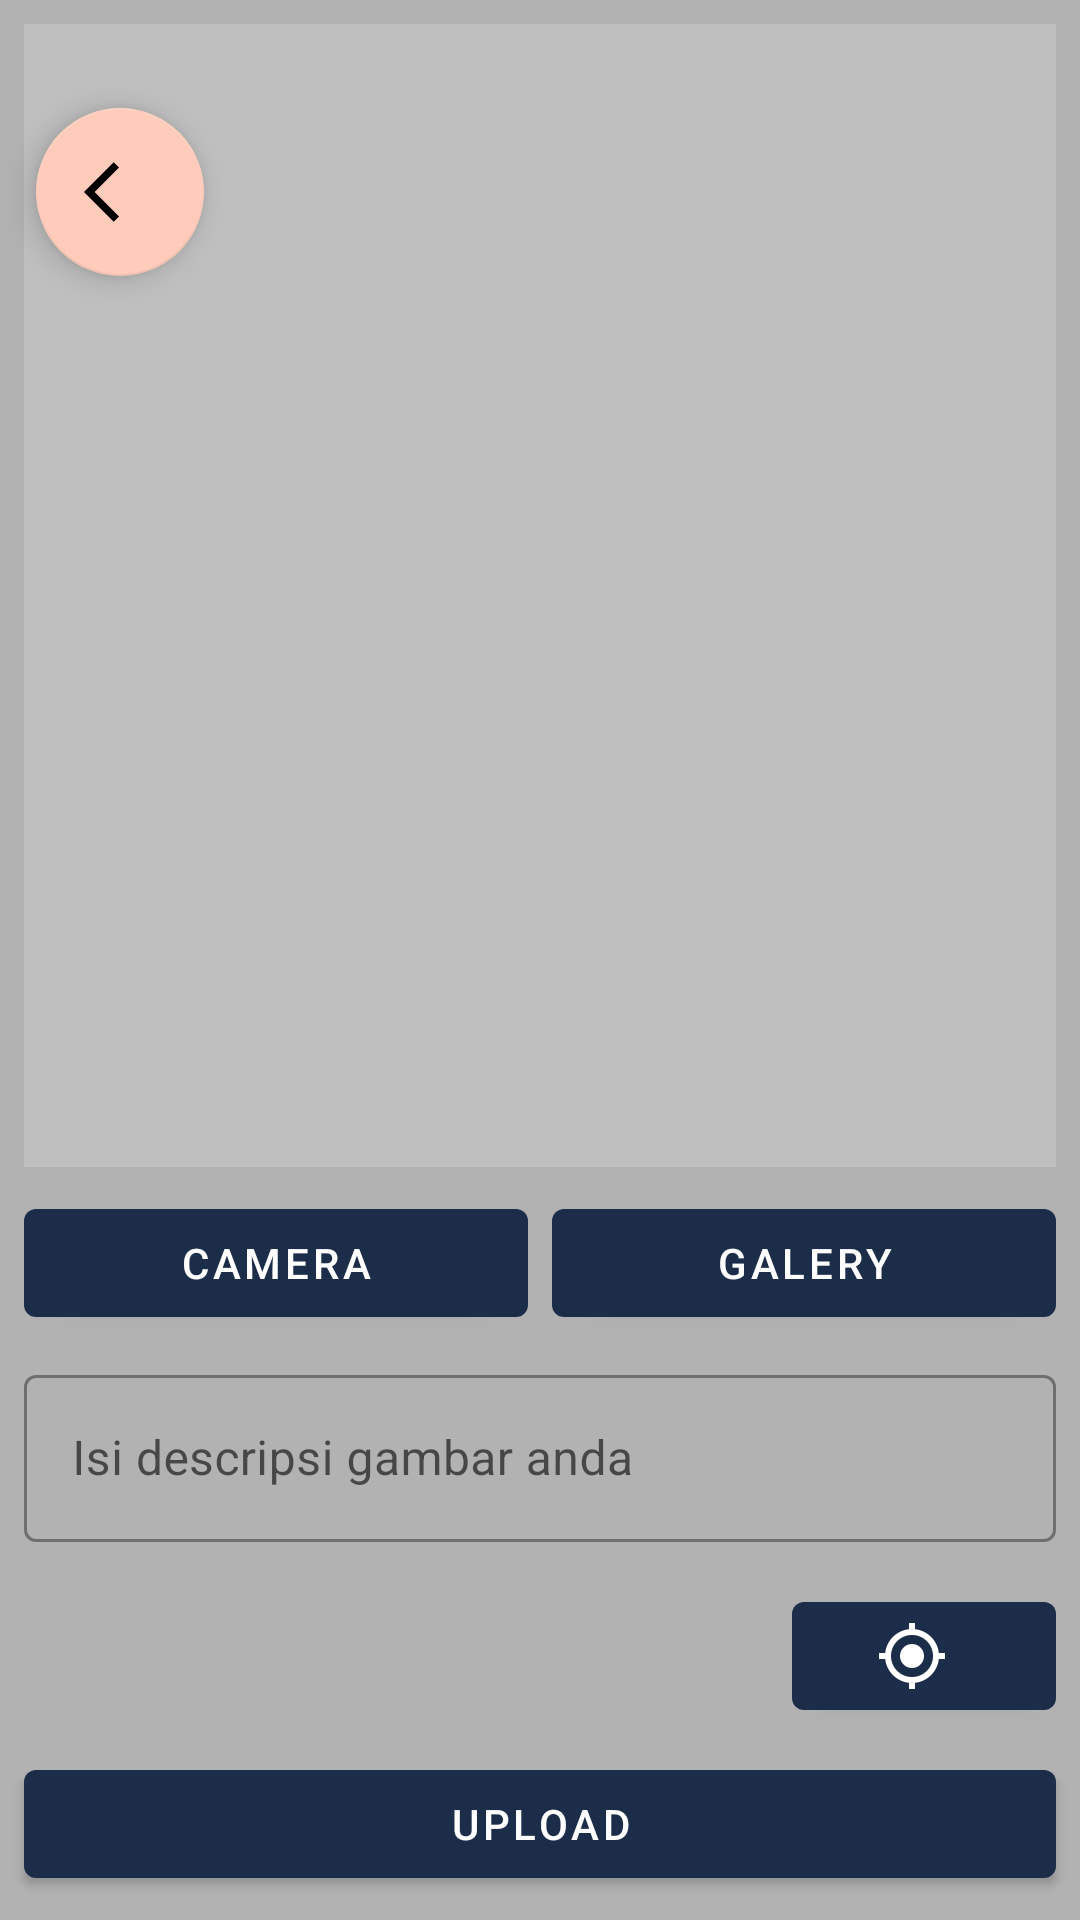

Icons on this 1080 × 1920 Android screen, each with its box as (x1, y1, x2, y2):
Back to List: (36, 108, 204, 276)
get loc: (792, 1602, 1056, 1710)
